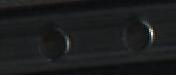joints: (118, 13, 156, 56), (35, 21, 70, 60)
